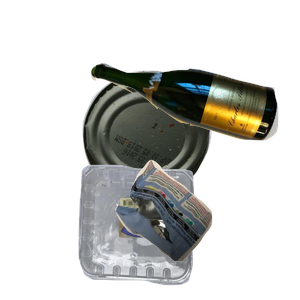glass: (88, 60, 300, 193)
metal: (80, 68, 284, 248)
plastic: (76, 162, 264, 300)
trash: (113, 157, 300, 300)
